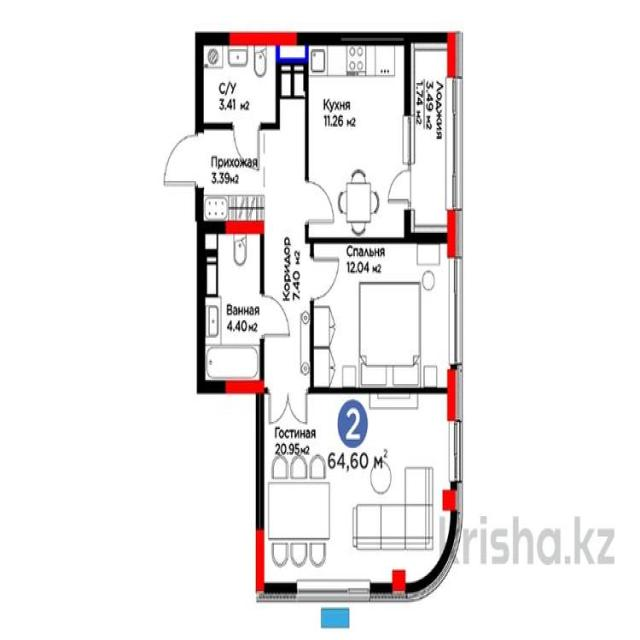balcony: (412, 42, 452, 239)
bathroom: (202, 233, 260, 385), (203, 44, 278, 126)
hallway: (265, 126, 309, 385), (202, 132, 262, 222)
kitchen: (309, 42, 406, 238)
living_room: (261, 390, 442, 586), (313, 240, 453, 388)
